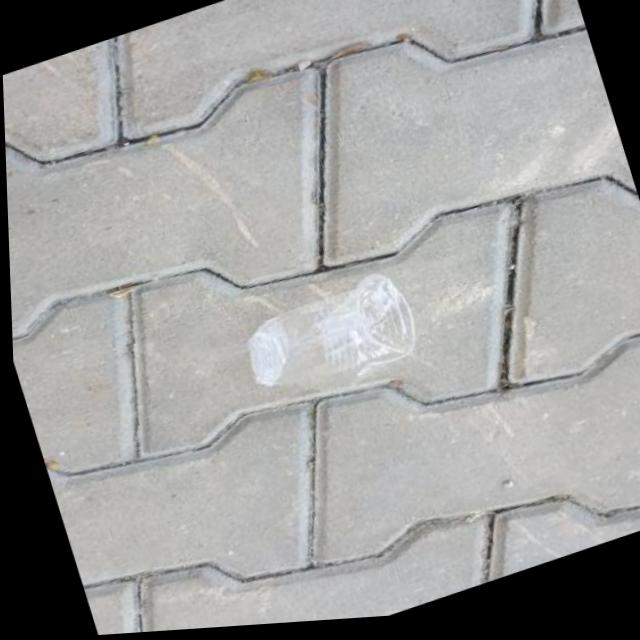plastic: (226, 199, 366, 395)
